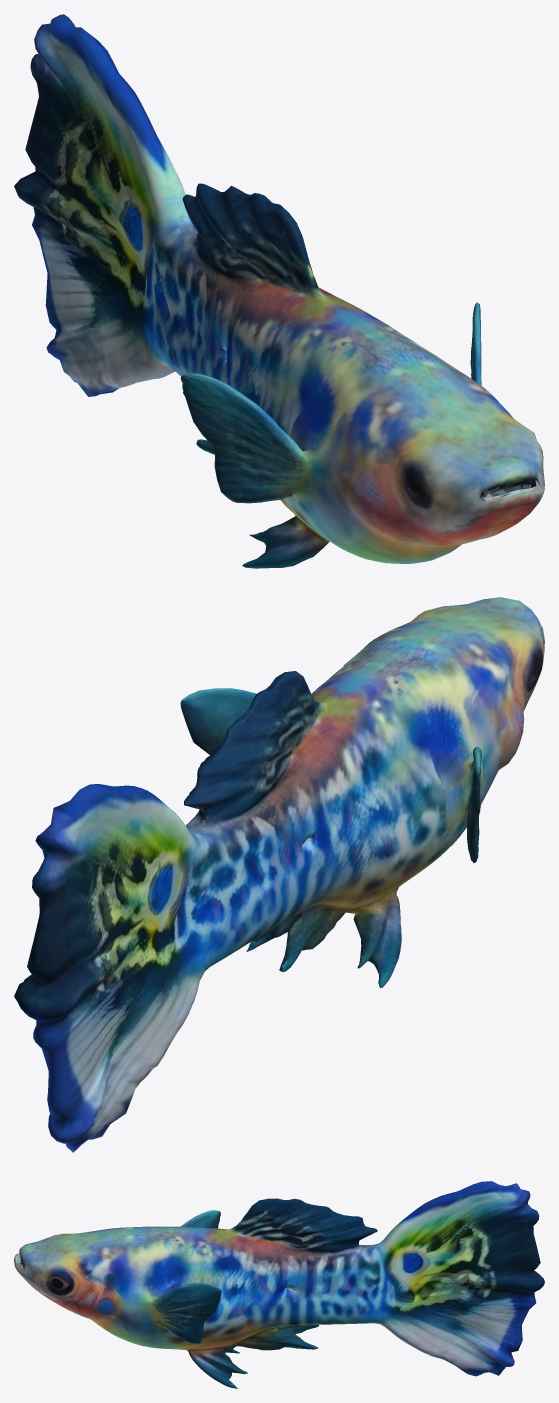
Rendered from guppy_blue_leopard_fan_mesh.glb.
3 views of the same model, one above another, from view 1: azimuth 30°, elevation 25°; view 2: azimuth 150°, elevation 25°; view 3: azimuth 270°, elevation 25° (orthographic). The views are drawn at different scales.
Size of the model in its own units: 0.7063 by 0.8098 by 2.
Materials: 1 (1 with a texture image).
